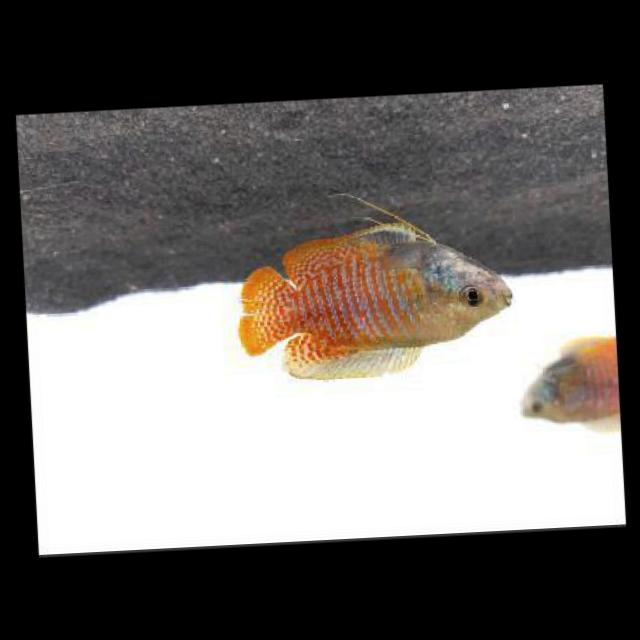Gourami: (220, 208, 530, 408)
